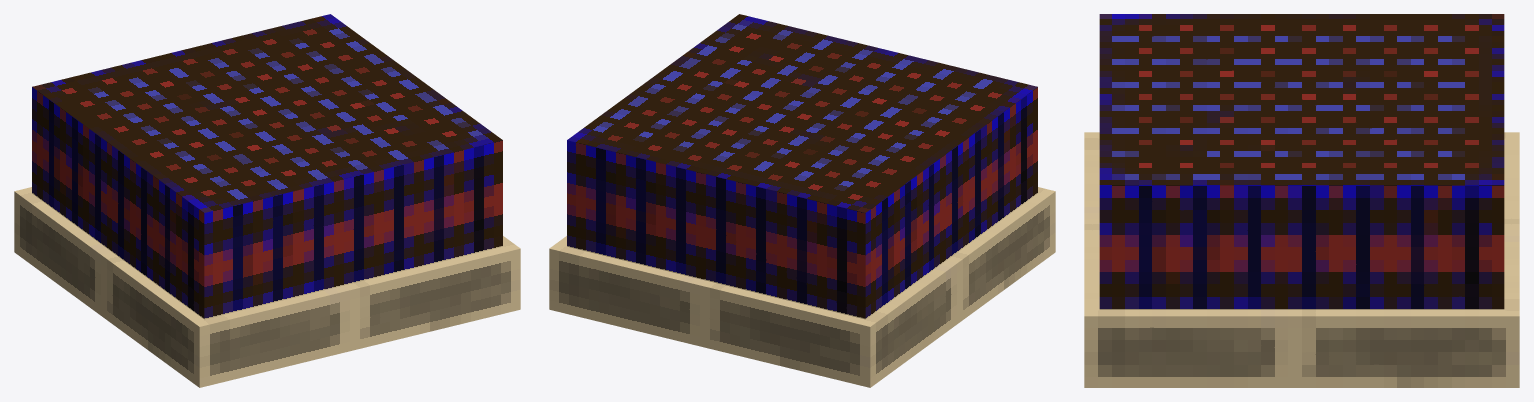
Rendered from pallet.glb.
3 renders of one model, left to right at view 1: azimuth 30°, elevation 25°; view 2: azimuth 150°, elevation 25°; view 3: azimuth 270°, elevation 25°, orthographic. The views are drawn at different scales.
Parts seen in each view (by area): view 1: Cube; view 2: Cube; view 3: Cube.
Boxes of the visible parts, x1,y1,x2,y2 form: Cube: [14, 14, 520, 387]; Cube: [549, 14, 1055, 387]; Cube: [1084, 14, 1519, 387].
Bounding box in the file's own units: 4 × 1.99 × 4.
1 material, 1 textured.
